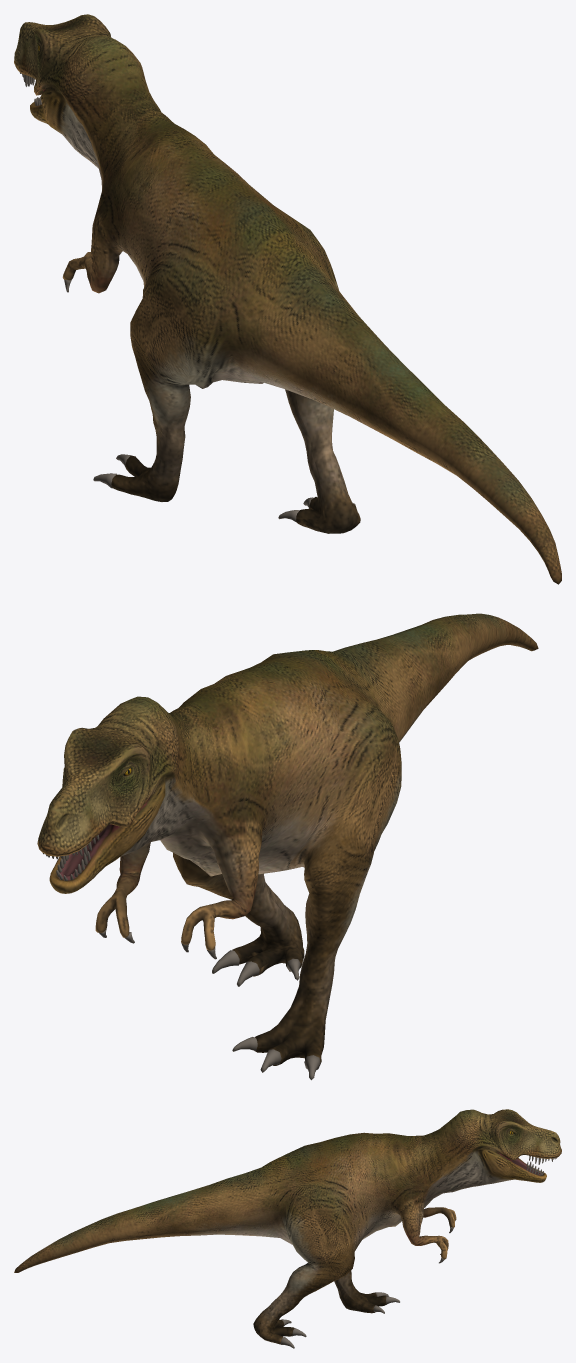
3 renders of one model, top to bottom at view 1: azimuth 30°, elevation 25°; view 2: azimuth 150°, elevation 25°; view 3: azimuth 270°, elevation 25°, orthographic. The views are drawn at different scales.
Parts seen in each view (by area): view 1: Trex_Mesh; view 2: Trex_Mesh; view 3: Trex_Mesh.
Part boxes in pixels (bbox=[...]): Trex_Mesh: bbox=[14, 14, 561, 584]; Trex_Mesh: bbox=[37, 613, 538, 1080]; Trex_Mesh: bbox=[14, 1109, 561, 1348].
Size of the model in its own units: 108 by 224 by 524.
Materials: 3 (2 with a texture image).
